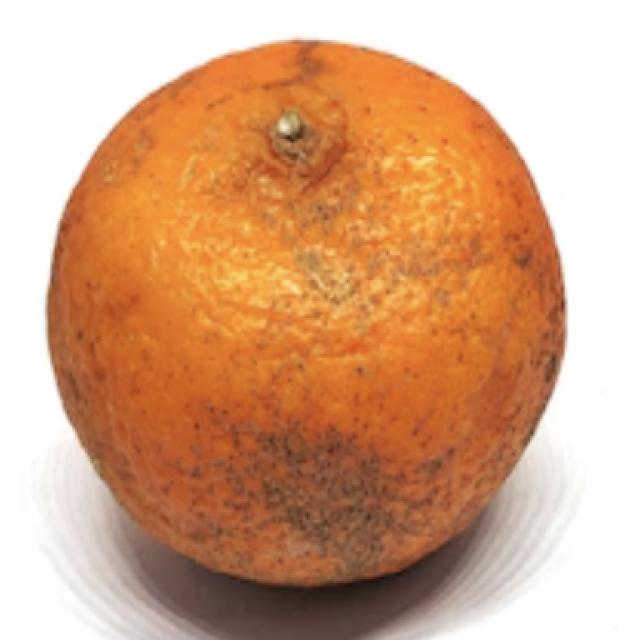sedikit_busuk: (37, 27, 577, 594)
